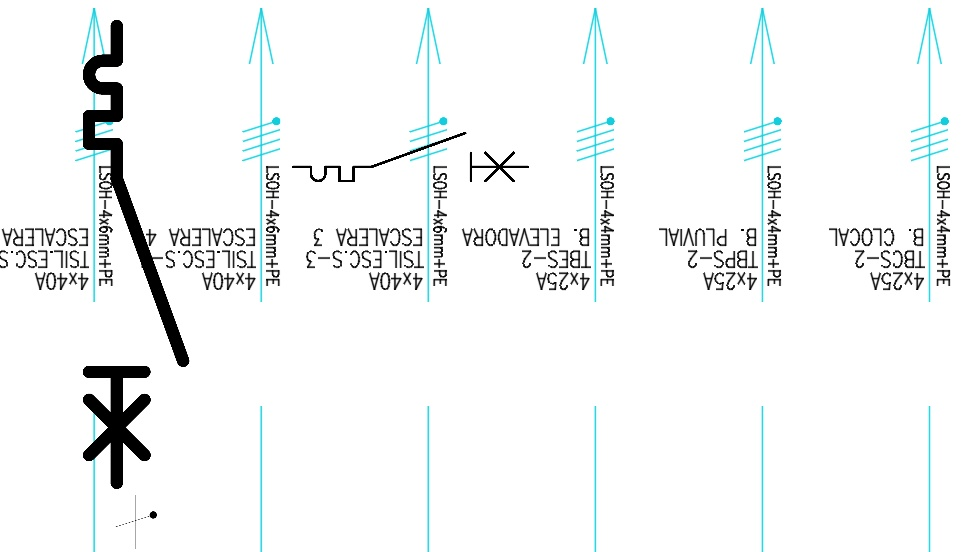interruptor_termomagnetico: (77, 14, 194, 495), (287, 127, 534, 187)
